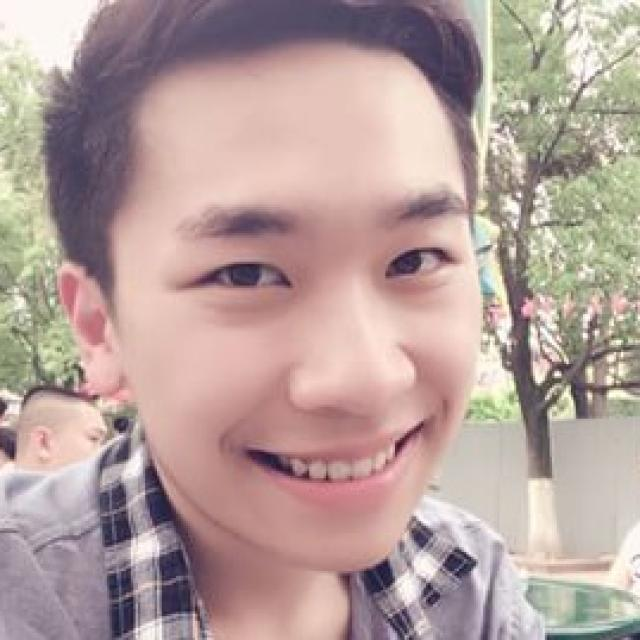Normal: (114, 49, 489, 576)
